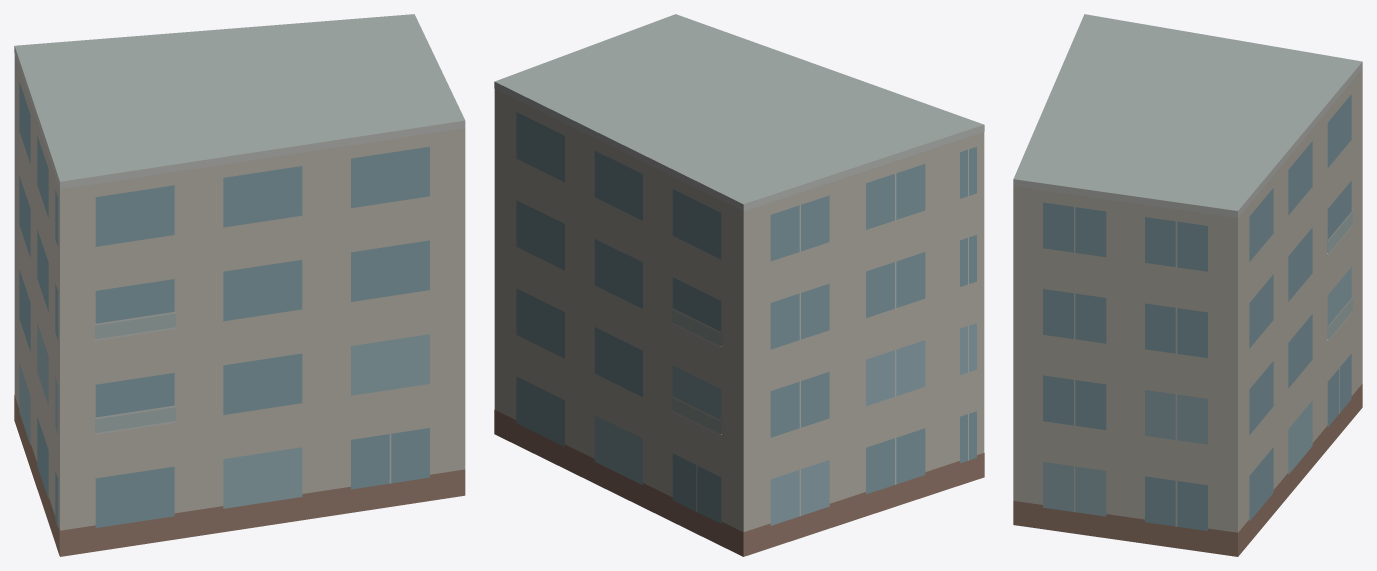
File: residential-06a26592-d521-4d95-890e-52b60fc04f4a.glb
3 views of the same model, side by side, from view 1: azimuth 30°, elevation 25°; view 2: azimuth 150°, elevation 25°; view 3: azimuth 270°, elevation 25° (orthographic). The views are drawn at different scales.
Parts seen in each view (by area): view 1: residential-06a26592-d521-4d95-890e-52b60fc04f4a.tmp; view 2: residential-06a26592-d521-4d95-890e-52b60fc04f4a.tmp; view 3: residential-06a26592-d521-4d95-890e-52b60fc04f4a.tmp.
Boxes of the visible parts, bbox=[...] form: residential-06a26592-d521-4d95-890e-52b60fc04f4a.tmp: bbox=[14, 14, 465, 556]; residential-06a26592-d521-4d95-890e-52b60fc04f4a.tmp: bbox=[494, 14, 984, 556]; residential-06a26592-d521-4d95-890e-52b60fc04f4a.tmp: bbox=[1013, 14, 1362, 556].
Bounding box in the file's own units: 14.92 × 12.2 × 11.18.
